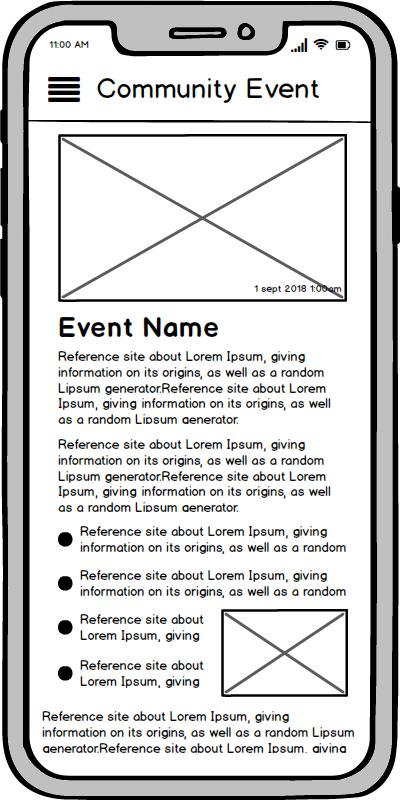Icon: (48, 77, 82, 104), (58, 619, 74, 636), (58, 665, 74, 682), (58, 532, 74, 548), (58, 575, 74, 591)
Image: (59, 134, 348, 303), (221, 609, 348, 697)
Text: (56, 349, 332, 426), (57, 437, 333, 513), (41, 708, 355, 756), (80, 568, 347, 599), (80, 525, 349, 555), (97, 78, 320, 105), (80, 613, 205, 644), (80, 658, 205, 689), (60, 316, 219, 338), (253, 283, 342, 294)
Toolbar: (30, 57, 371, 122)
